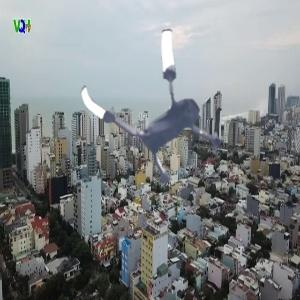drone: (78, 24, 252, 198)
